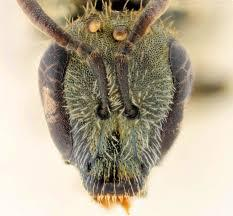Lasioglossum: (22, 0, 197, 214)
